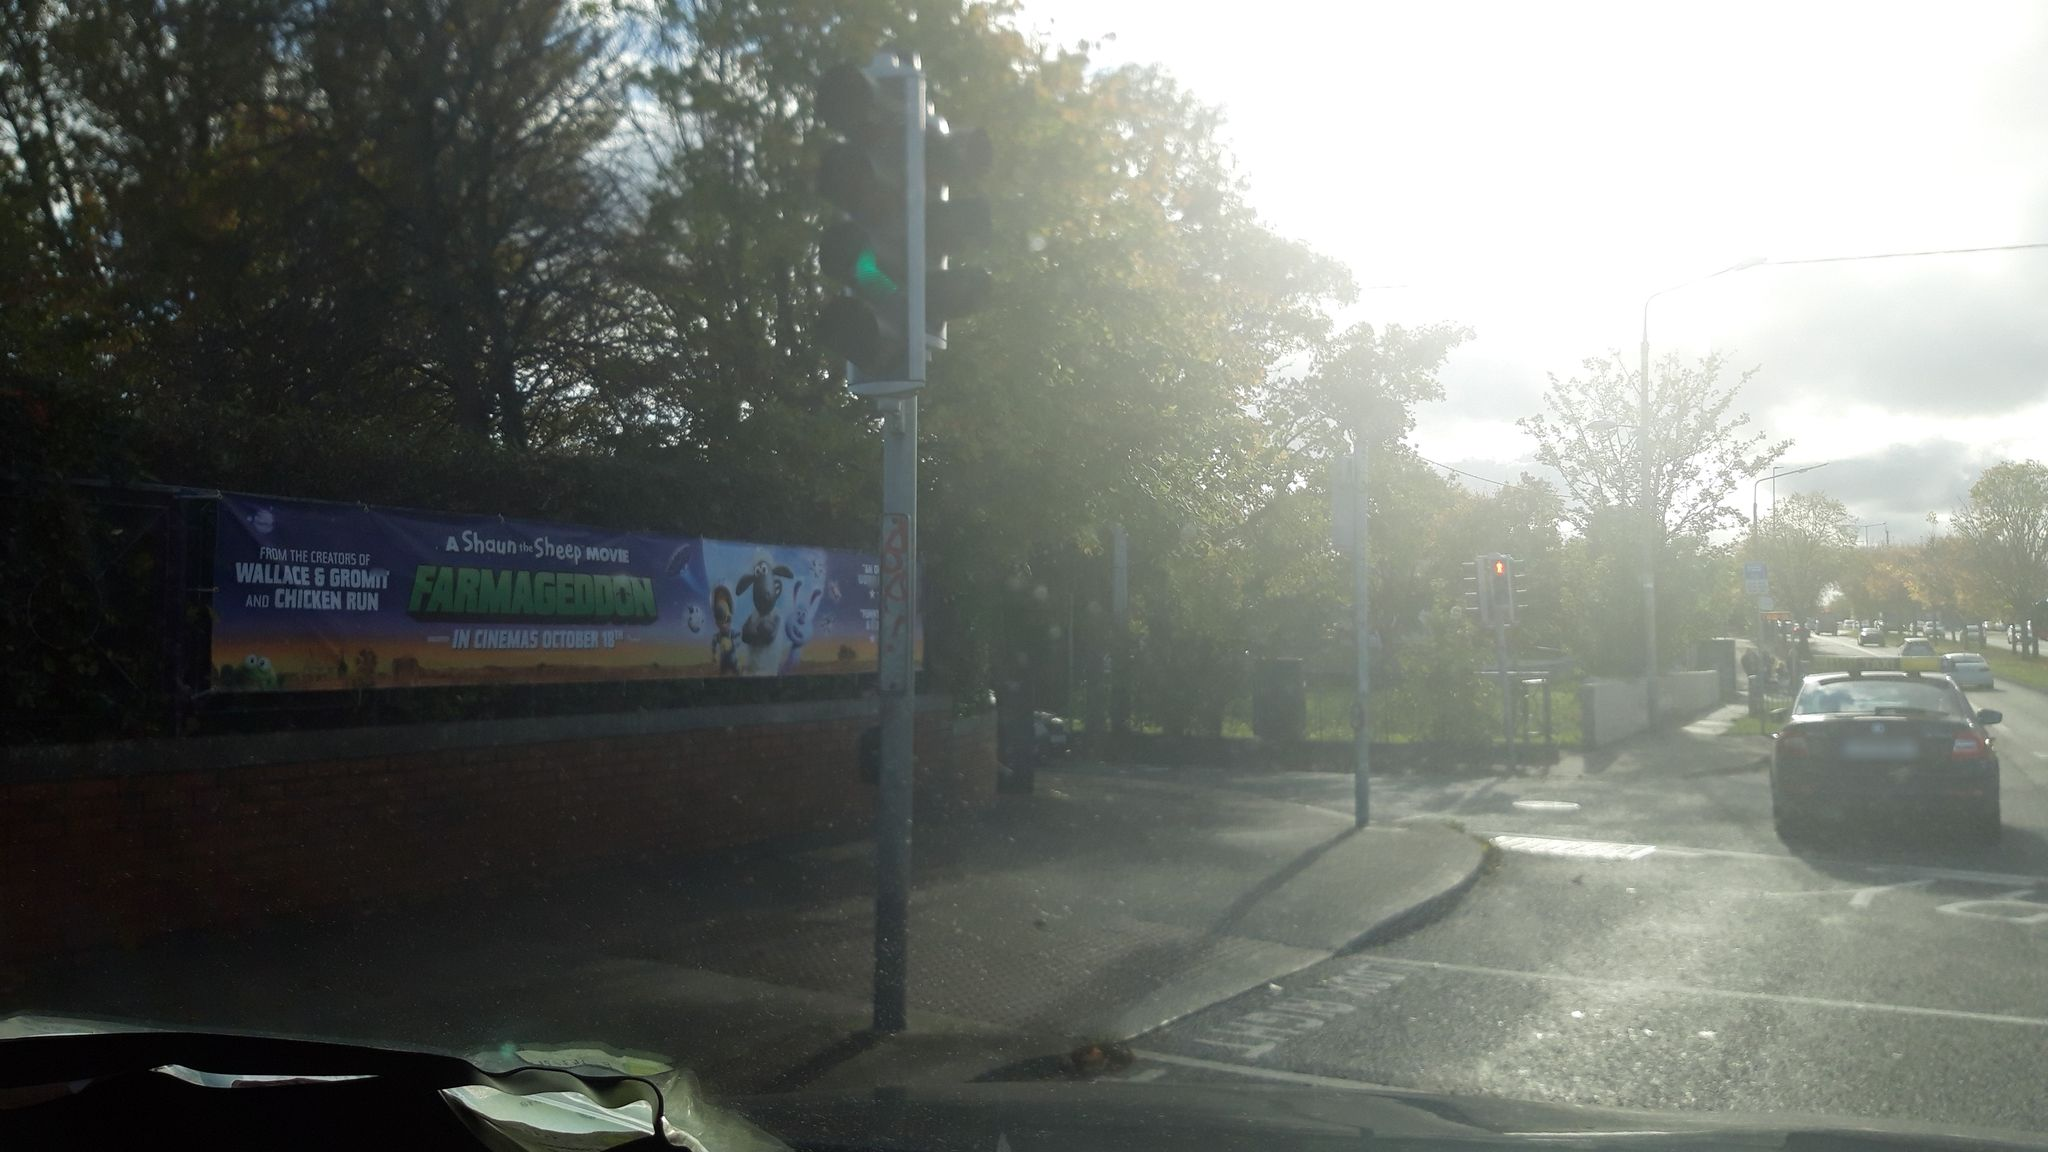vinyl banner: (197, 491, 940, 705)
